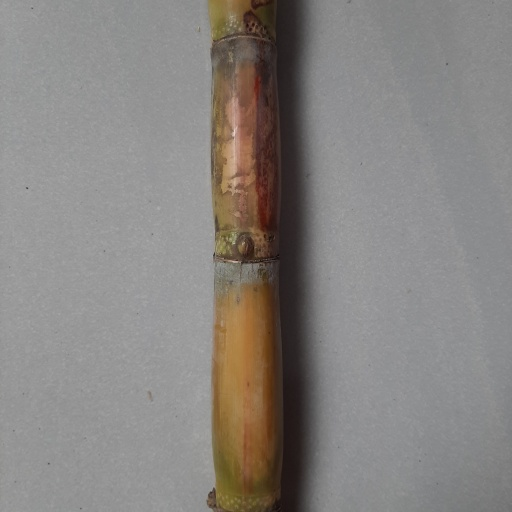Bud: (235, 232, 255, 261)
